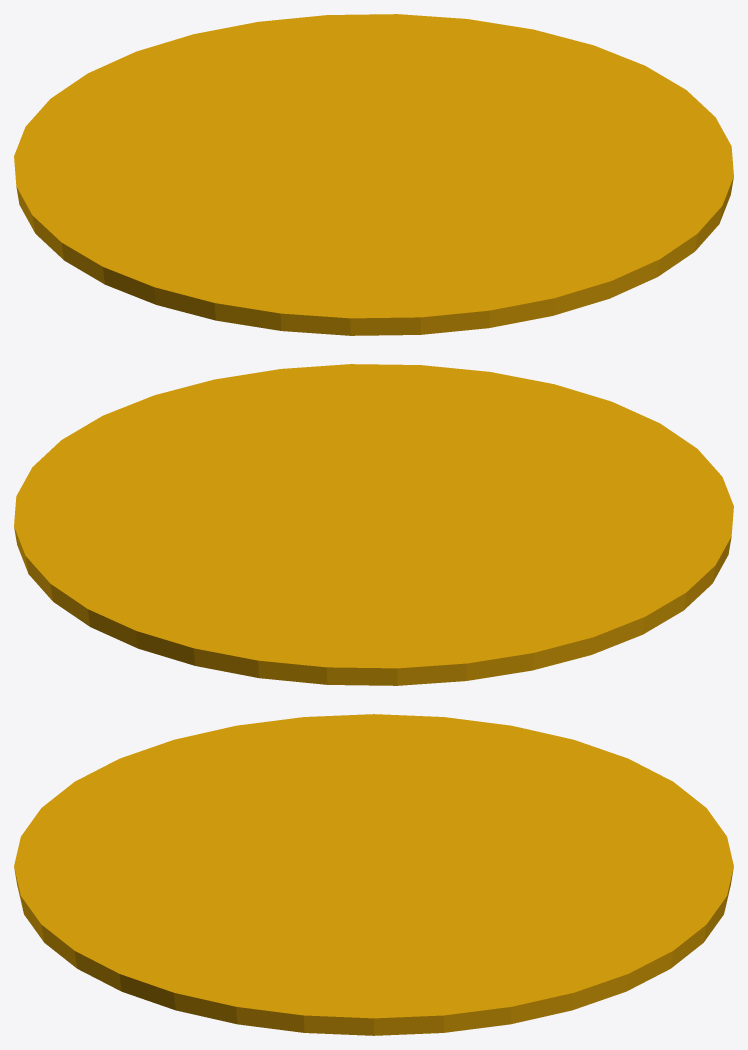
File: lettuce.fbx
The picture shows the model from 3 angles, top to bottom: view 1: azimuth 30°, elevation 25°; view 2: azimuth 150°, elevation 25°; view 3: azimuth 270°, elevation 25°; orthographic projection.
Parts seen in each view (by area): view 1: Lettuce; view 2: Lettuce; view 3: Lettuce.
Part boxes in pixels (box(x1,y1,x2,y2)): Lettuce: box(14, 14, 733, 335); Lettuce: box(14, 364, 733, 685); Lettuce: box(14, 714, 733, 1035).
Bounding box in the file's own units: 86.22 × 2.48 × 86.22.
